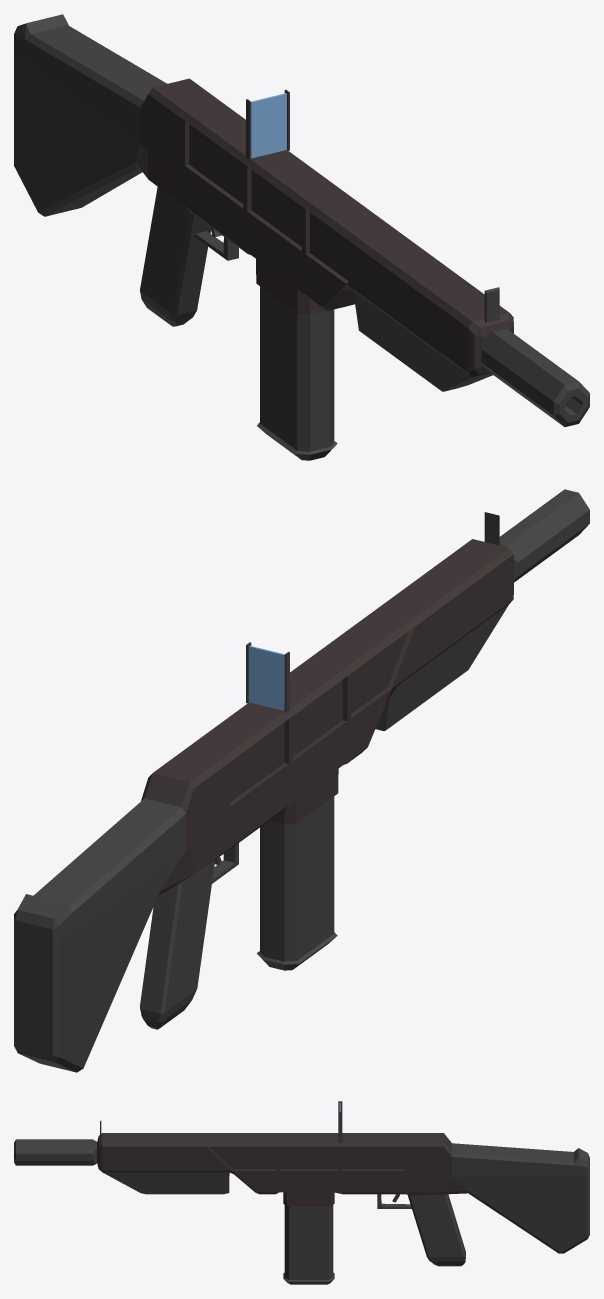
Rendered from Assault Rifle.fbx.
The picture shows the model from 3 angles, top to bottom: view 1: azimuth 30°, elevation 25°; view 2: azimuth 150°, elevation 25°; view 3: azimuth 270°, elevation 25°; orthographic projection. The views are drawn at different scales.
Visible parts, largest first — view 1: Assault Rifle, Ammo Clip; view 2: Assault Rifle, Ammo Clip; view 3: Assault Rifle, Ammo Clip.
Boxes of the visible parts, x1,y1,x2,y2 form: Assault Rifle: (14, 14, 589, 426); Ammo Clip: (257, 286, 337, 460); Assault Rifle: (14, 489, 589, 1072); Ammo Clip: (257, 796, 337, 970); Assault Rifle: (14, 1101, 589, 1266); Ammo Clip: (283, 1205, 334, 1284).
Bounding box in the file's own units: 36.85 × 253 × 758.
